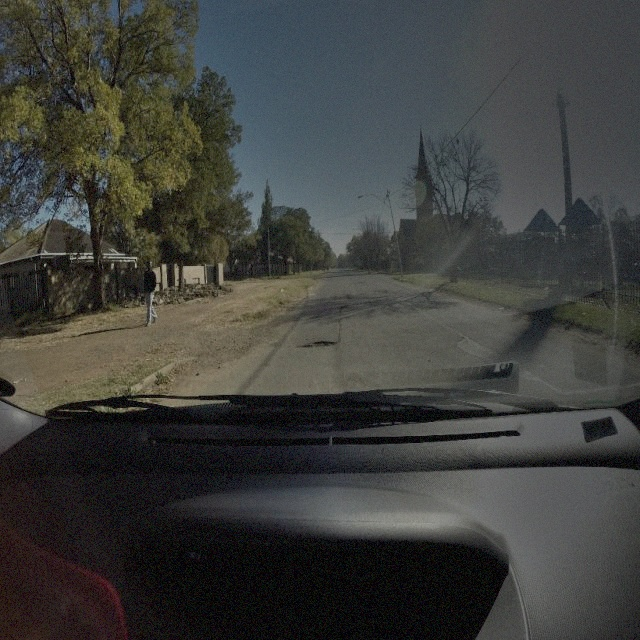pothole: (296, 336, 340, 351)
